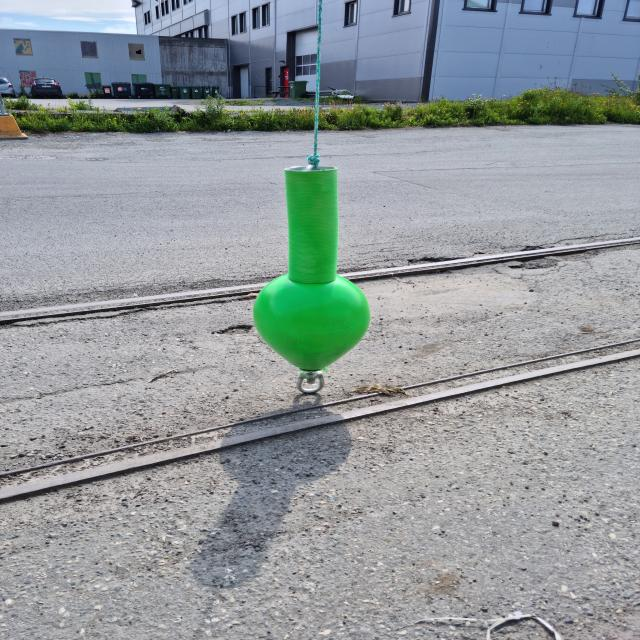green: (253, 168, 372, 372)
